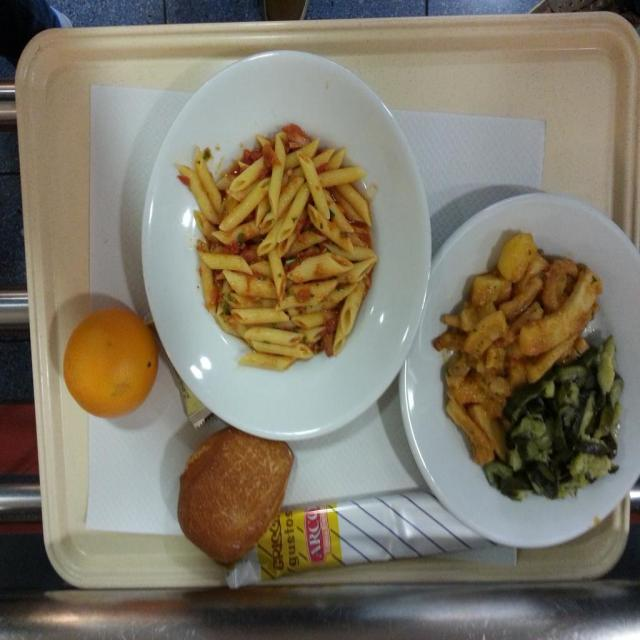plate: (143, 46, 433, 438), (399, 192, 640, 545), (174, 418, 296, 568), (63, 305, 158, 423)
